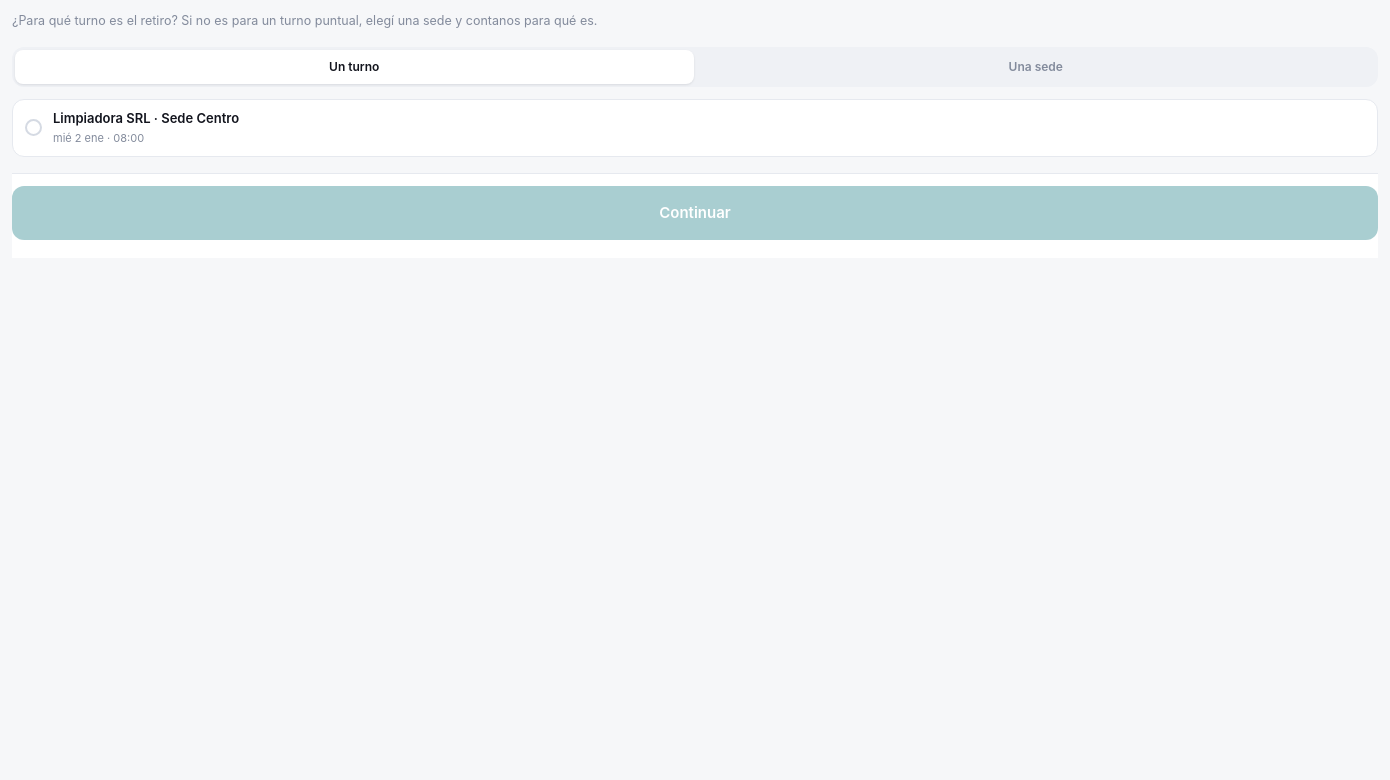
Test: WithdrawPage › con turno: lo elige, agrega artículos, revisa y confirma; muestra la hora del servidor
Expected: the button "Continuar" is disabled, [12,186,1378,240]
Click the radio button named "Limpiadora SRL · Sede Centro": [34, 128] box [25,119,42,136]
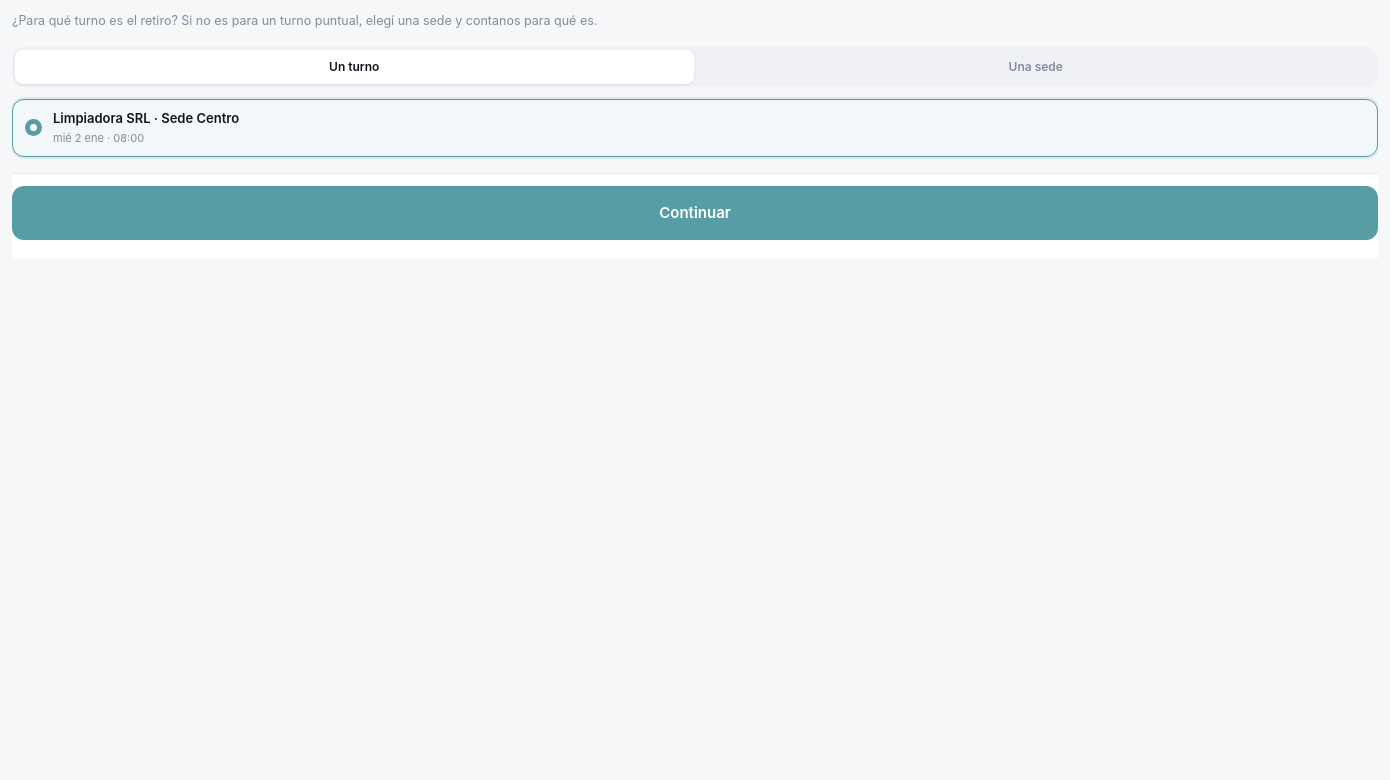
Click the button "Continuar": [695, 213] box [12,186,1378,240]
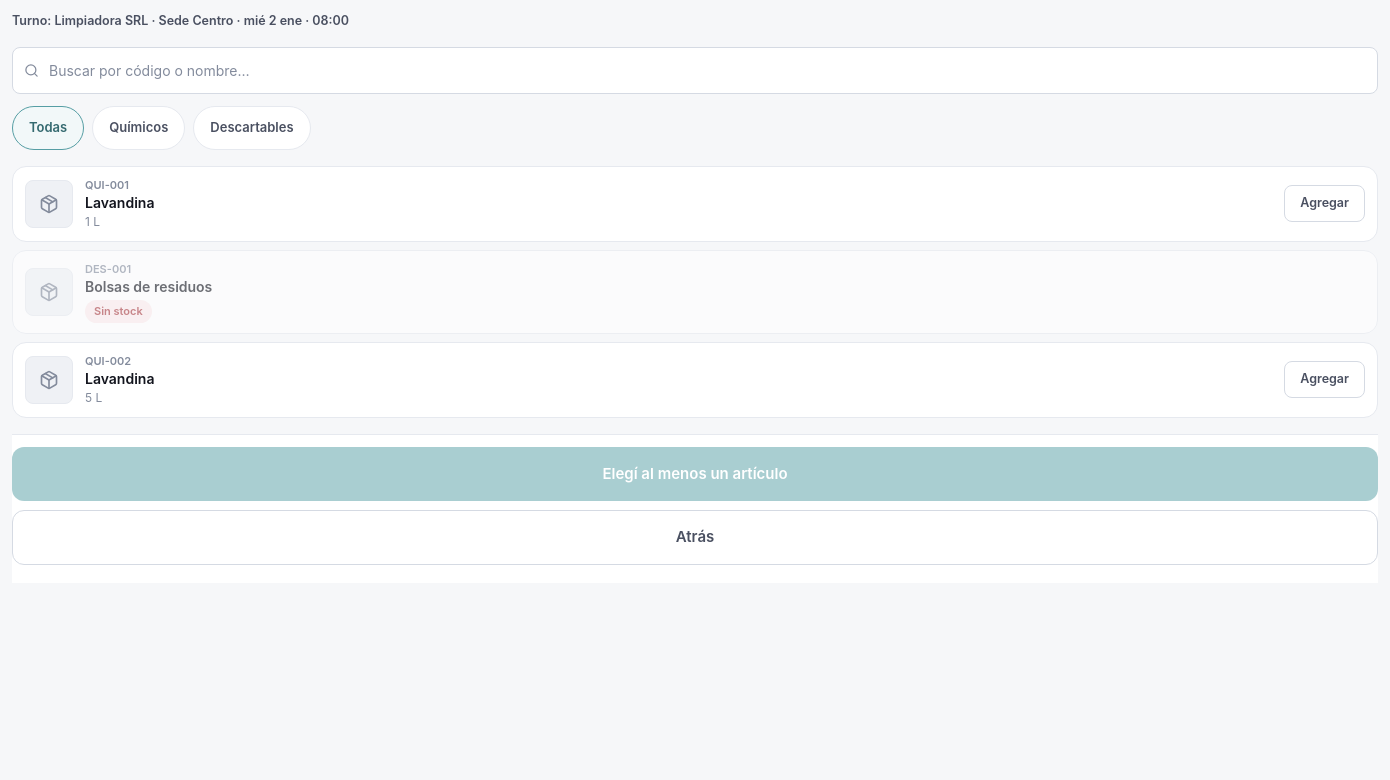
Expected: the button "Elegí al menos un artículo" is disabled, [12,446,1378,501]
Click the button with aria-label "Agregar Lavandina · 1 L": [1325, 204] box [1284,185,1365,222]
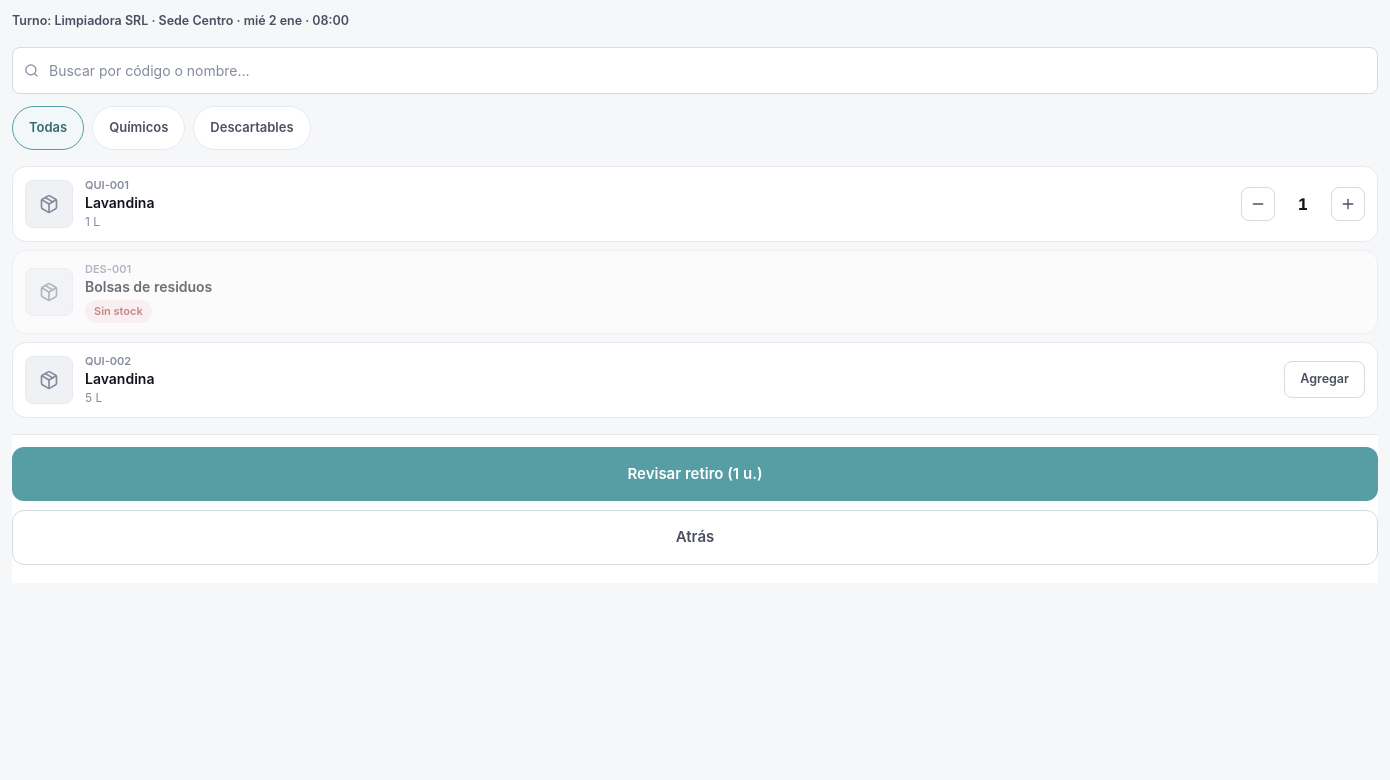
Click the button named "Sumar una unidad de Lavandina · 1 L": [1348, 204] box [1331,187,1365,221]
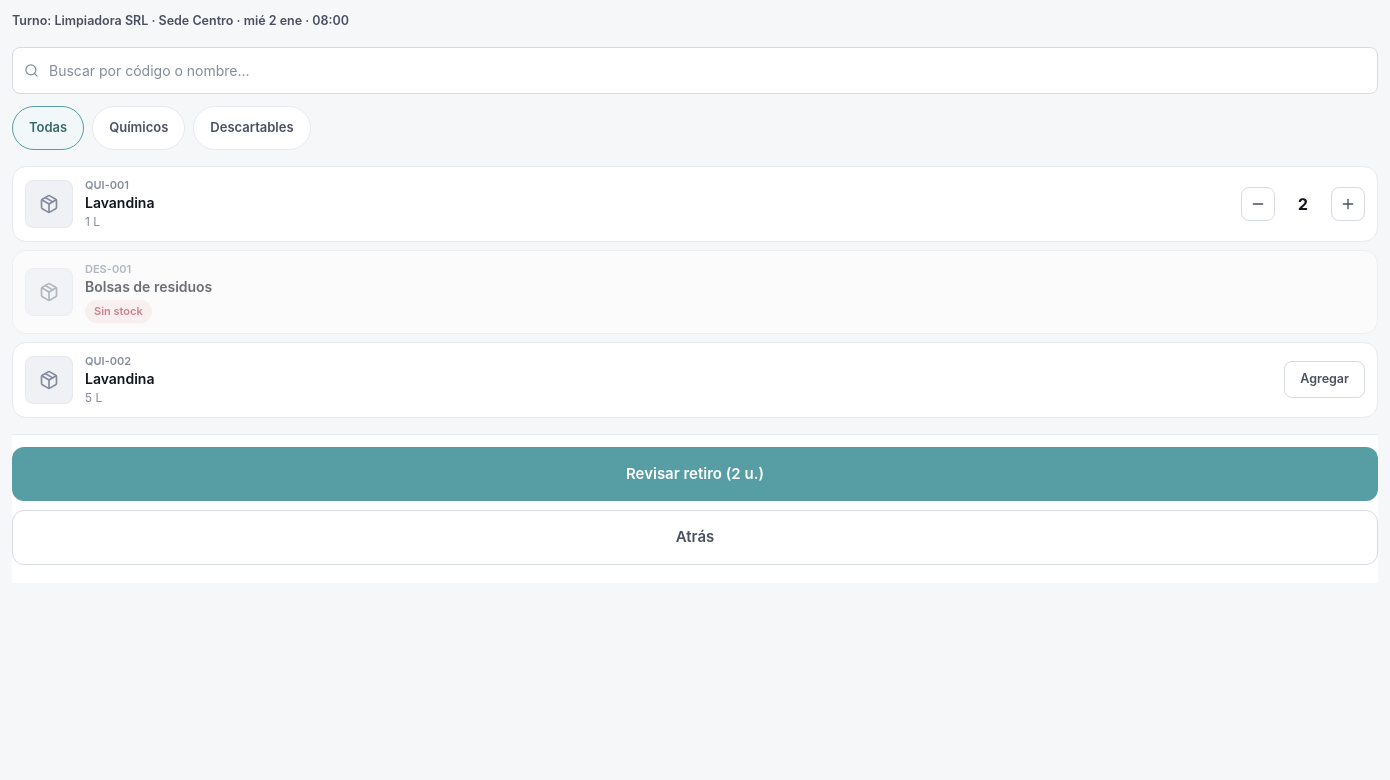
Click the button "Revisar retiro (2 u.)": [695, 474] box [12,446,1378,501]
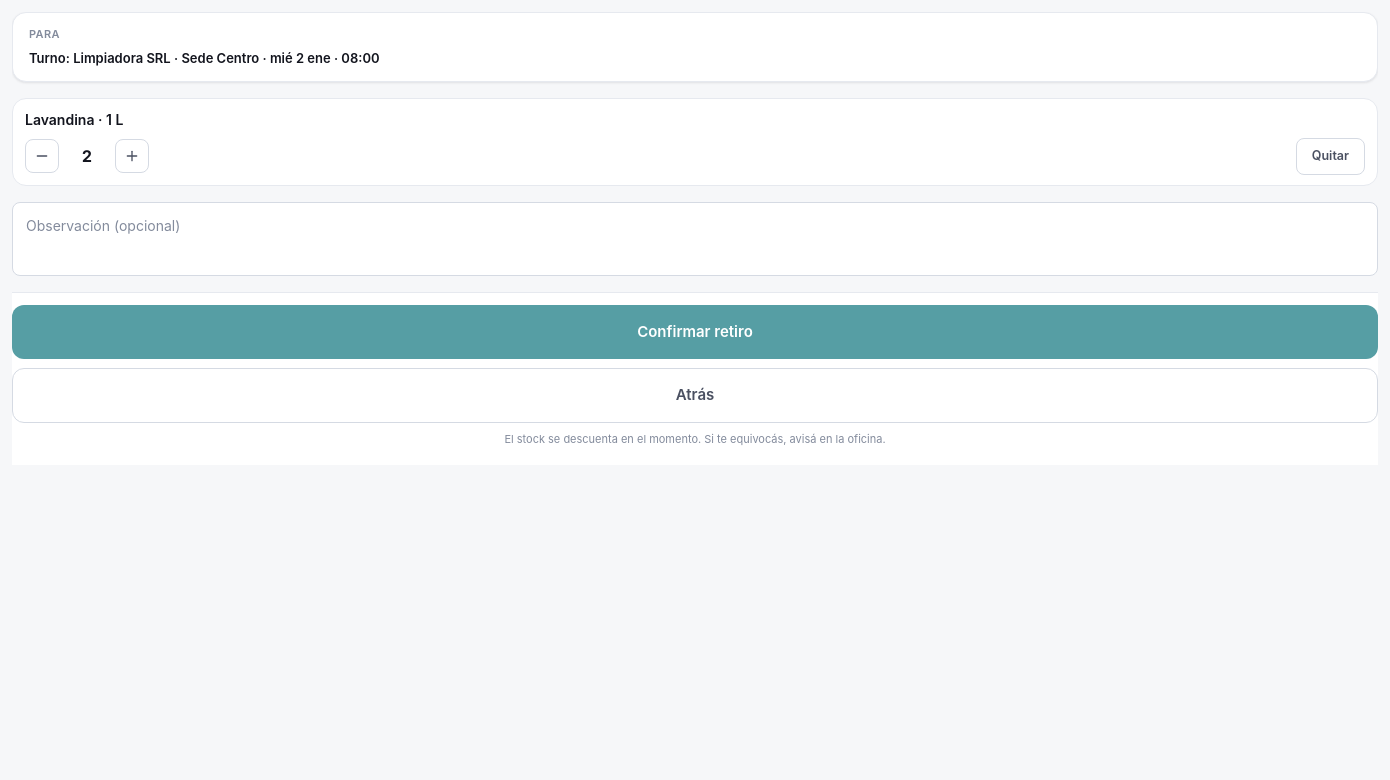
Expected: the text "Lavandina · 1 L" is shown, [25,111,123,128]
In the text box named "Observación del retiro": [695, 239] box [12,202,1378,276], type "Para el piso 2"
Click the button "Confirmar retiro": [695, 332] box [12,305,1378,359]
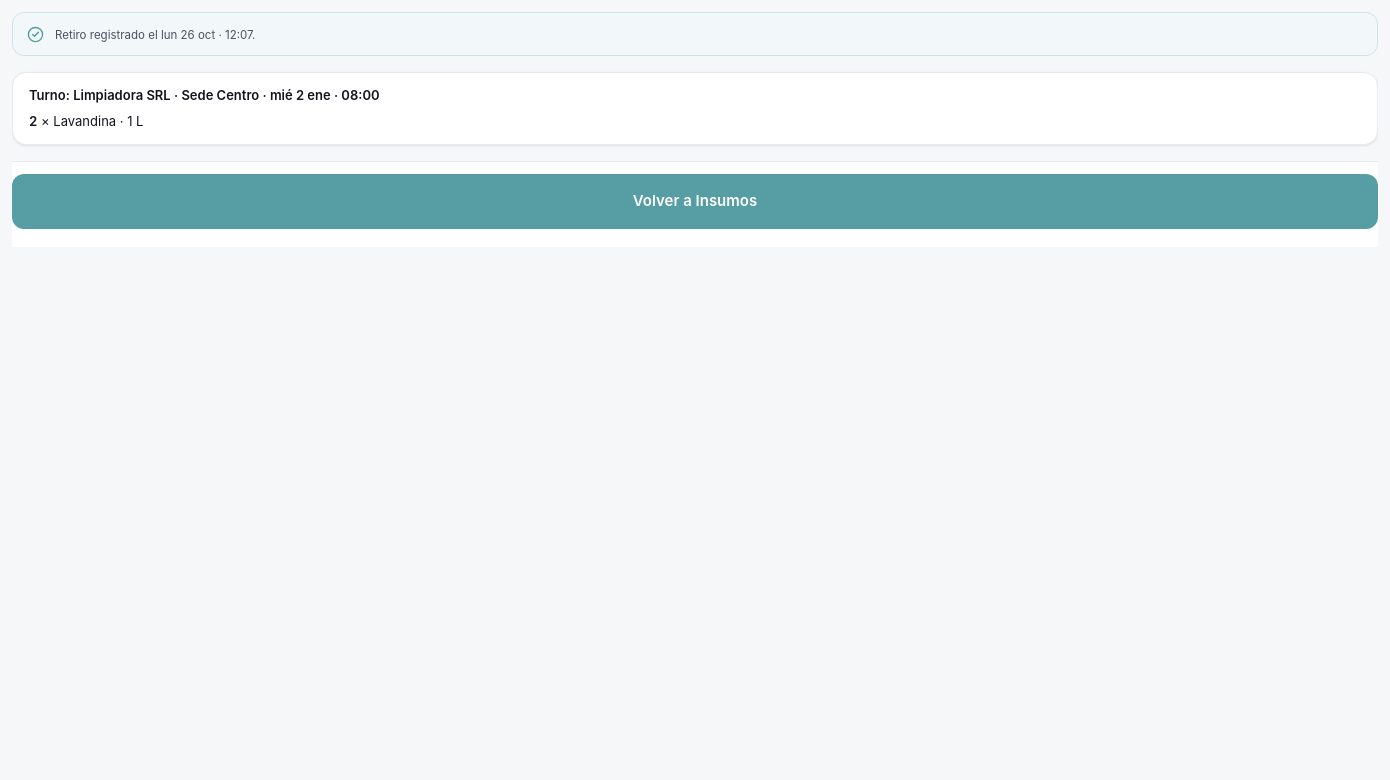
Expected: the text "Retiro registrado el lun 26 oct · 12:07." is shown, [55,27,255,43]
Expected: the list item "2 × Lavandina · 1 L" is shown, [29,113,144,129]
Expected: the button "Volver a Insumos" is shown, [12,174,1378,229]
